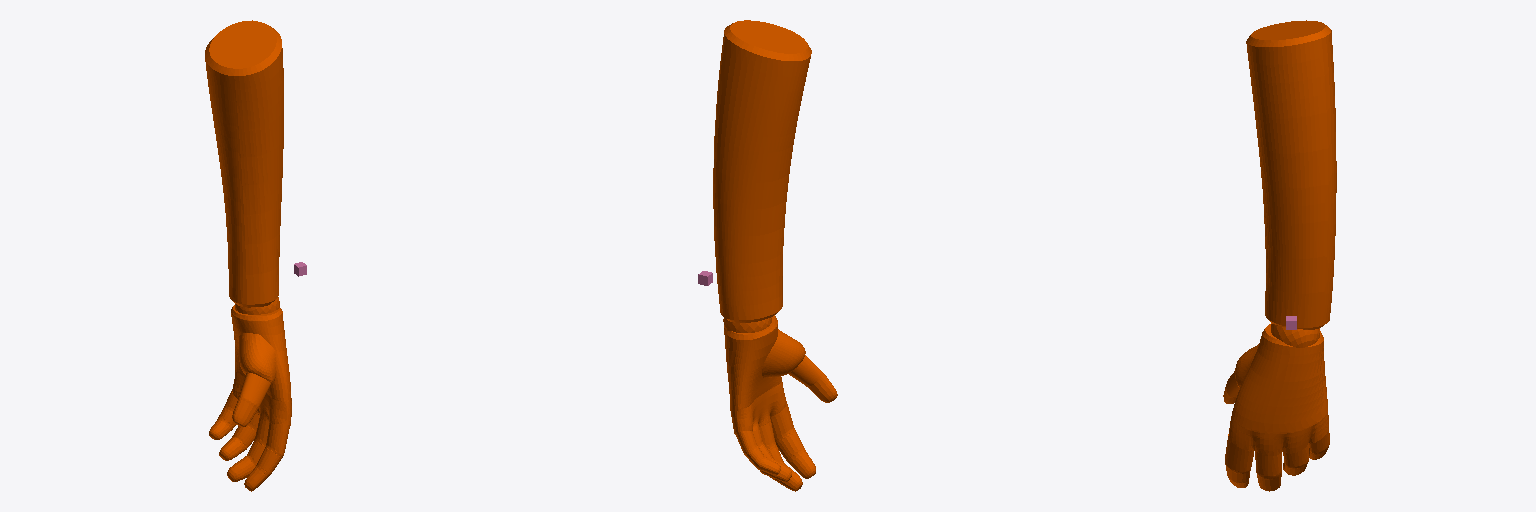
The robot description file, URDF, robot "human_arm":
<?xml version="1.0" ?>
<robot name="human_arm">

<material name="silver">
  <color rgba="0.700 0.700 0.700 1.000"/>
</material>

<link name="base_link">
  <inertial>
    <origin xyz="0.0 0.0 0.0" rpy="0 0 0"/>
    <mass value="0.0"/>
    <inertia ixx="0.0" iyy="0.0" izz="0.0" ixy="0.0" iyz="0.0" ixz="0.0"/>
  </inertial>
</link>

<joint name="base_fixed" type="fixed">
  <origin rpy="0 0 0.0" xyz="0 0 0.0"/>
  <parent link="base_link"/>
  <child link="base_link_0"/>
  <axis xyz="0 0 0"/>
</joint>

<link name="base_link_0">
  <inertial>
    <origin xyz="0.0 0.0 0.0" rpy="0 0 0"/>
    <mass value="0.0"/>
    <inertia ixx="0.0" iyy="0.0" izz="0.0" ixy="0.0" iyz="0.0" ixz="0.0"/>
  </inertial>
</link>

<link name="base_link_1">
  <inertial>
    <origin xyz="0.0 0.0 0.0" rpy="0 0 0"/>
    <mass value="0.0"/>
    <inertia ixx="0.0" iyy="0.0" izz="0.0" ixy="0.0" iyz="0.0" ixz="0.0"/>
  </inertial>
</link>

<link name="base_link_2">
  <inertial>
    <origin xyz="0.0 0.0 0.0" rpy="0 0 0"/>
    <mass value="0.0"/>
    <inertia ixx="0.0" iyy="0.0" izz="0.0" ixy="0.0" iyz="0.0" ixz="0.0"/>
  </inertial>
</link>

<link name="upper_arm">
  <inertial>
    <origin xyz="0.00277 -0.00352 -0.098" rpy="0 0 0"/>
    <mass value="1.0"/>
    <inertia ixx="0.00691" iyy="0.00674" izz="0.00097" ixy="-6.65745e-06" iyz="-7.0718e-05" ixz="0.00015"/>
  </inertial>
  <visual>
    <origin xyz="0 0 0" rpy="0 0 0"/>
    <geometry>
      <mesh filename="upper.stl" scale="1.0 1.0 1.0"/>
    </geometry>
    <material name="silver"/>
    <material/>
  </visual>
  <collision>
    <origin xyz="0 0 0" rpy="0 0 0"/>
    <geometry>
      <mesh filename="upper.stl" scale="1.0 1.0 1.0"/>
    </geometry>
  </collision>
</link>

<link name="lower_arm">
  <inertial>
    <origin xyz="0.01457 9.28389e-05 -0.19143" rpy="0 0 0"/>
    <mass value="1.0"/>
    <inertia ixx="0.01712" iyy="0.01699" izz="0.00072" ixy="-5.34657e-05" iyz="-0.00071" ixz="0.00031"/>
  </inertial>
  <visual>
    <origin xyz="0.0 0.0 0.0" rpy="0 0 0"/>
    <geometry>
      <mesh filename="lower.stl" scale="1.0 1.0 1.0"/>
    </geometry>
    <material name="silver"/>
    <material/>
  </visual>
  <collision>
    <origin xyz="0.0 0.0 0.0" rpy="0 0 0"/>
    <geometry>
      <mesh filename="lower.stl" scale="1.0 1.0 1.0"/>
    </geometry>
  </collision>
</link>

<joint name="base_x" type="continuous">
  <origin xyz="0.0 0.0 0.0" rpy="0 0 0"/>
  <parent link="base_link_0"/>
  <child link="base_link_1"/>
  <axis xyz="1.0 0.0 0.0"/>
  <!-- <limit effort="100" lower="-1.57" upper="1.57" velocity="5.0"/> -->
</joint>

<joint name="base_y" type="continuous">
  <origin xyz="0.0 0.0 0.0" rpy="0 0 0"/>
  <parent link="base_link_1"/>
  <child link="base_link_2"/>
  <axis xyz="0.0 1.0 0.0"/>
  <!-- <limit effort="100" lower="-1.57" upper="0" velocity="5.0"/> -->
</joint>

<joint name="base_z" type="continuous">
  <origin xyz="0.0 0.0 0.0" rpy="0 0 0"/>
  <parent link="base_link_2"/>
  <child link="upper_arm"/>
  <axis xyz="0.0 0.0 1.0"/>
  <!-- <limit effort="100" lower="0.0" upper="1.57" velocity="5.0"/> -->
</joint>

<joint name="upper_to_lower" type="continuous">
  <origin xyz="0.0 0.0 -0.24102" rpy="0 0 0"/>
  <parent link="upper_arm"/>
  <child link="lower_arm"/>
  <axis xyz="1.0 0.0 0.0"/>
  <!-- <limit effort="100" lower="-2.0944" upper="0.0" velocity="5.0"/> -->
</joint>

<joint name="grasp_fixed_joint" type="fixed">
    <parent link="lower_arm"/>
    <child link="ee_link"/>
    <!--origin rpy="0.0 0.0 1.570796325" xyz="0.0 0.0922 0.0"/-->
    <!--origin rpy="-1.57 0.0 1.57" xyz="0.0 0. 0.0"/-->
    <origin rpy="0.0 0.0 0.0" xyz="0.07 0.0 -0.27"/> 
</joint>

<link name="ee_link">
  <inertial>
    <origin xyz="0.0 0.0 0.0" rpy="0 0 0"/>
    <mass value="0.0"/>
    <inertia ixx="0.0" iyy="0.0" izz="0.0" ixy="0.0" iyz="0.0" ixz="0.0"/>
  </inertial>
  <visual>
    <geometry>
      <box size="0.01 0.01 0.01"/>
    </geometry>
    <origin rpy="0 0 0" xyz="0.0 0 0"/>
  </visual>
  <!-- <collision>
    <geometry>
      <box size="0.01 0.01 0.01"/>
    </geometry>
    <origin rpy="0 0 0" xyz="0.0 0 0"/>
  </collision> -->
</link>

</robot>

--- Render facts (derived) ---
3 views of the same robot in one strip: view 1: azimuth 30°, elevation 25°; view 2: azimuth 150°, elevation 25°; view 3: azimuth 270°, elevation 25° (orthographic).
Robot: human_arm — 7 links, 6 joints (4 continuous, 2 fixed); root link base_link; default pose: every joint at zero.
Visible links, largest first — view 1: lower_arm; view 2: lower_arm; view 3: lower_arm.
Link boxes in pixels (x1,y1,x2,y2): lower_arm: (205, 20, 291, 491); lower_arm: (713, 20, 837, 491); lower_arm: (1223, 20, 1336, 491).
Size in the robot's own frame: 0.1152 by 0.104 by 0.4829 metres.
Meshes: 2 distinct files referenced, 1 mesh visuals loaded (1 binary STL); not drawn: 1 (reference not matched to a file when rendering).